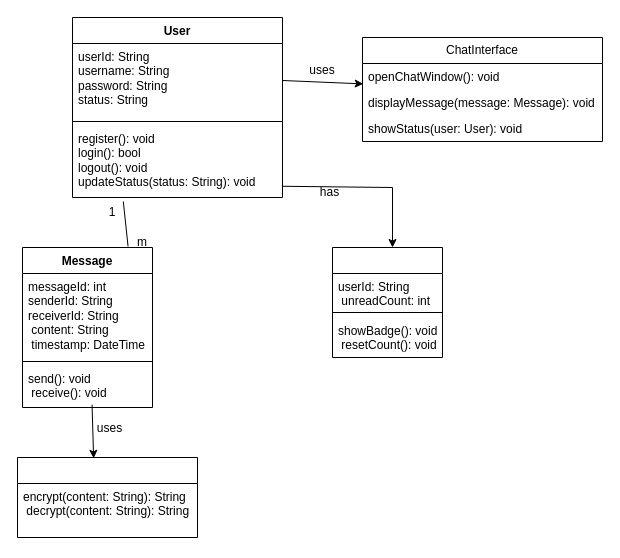
This 620x558 diagram has some shape labels left out. Here are the shapes that lost their labels. From the top down, the box of each, then its label:
(332, 246, 442, 358): Notification
(16, 456, 198, 538): Encryption
